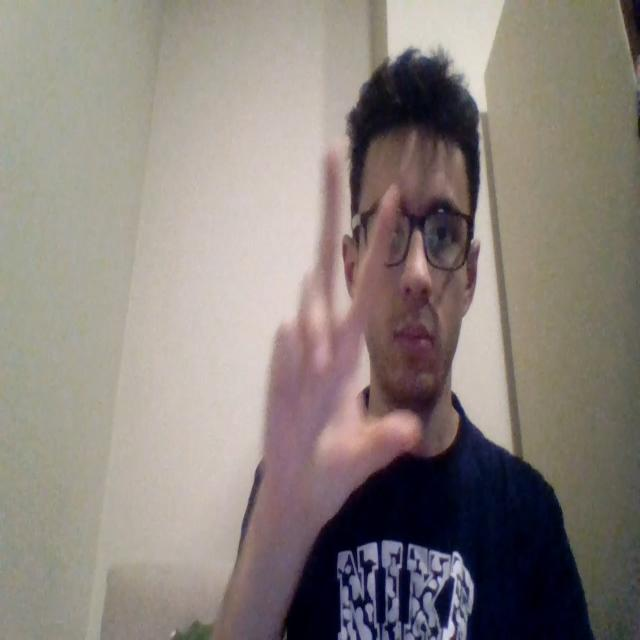no: (260, 148, 421, 514)
